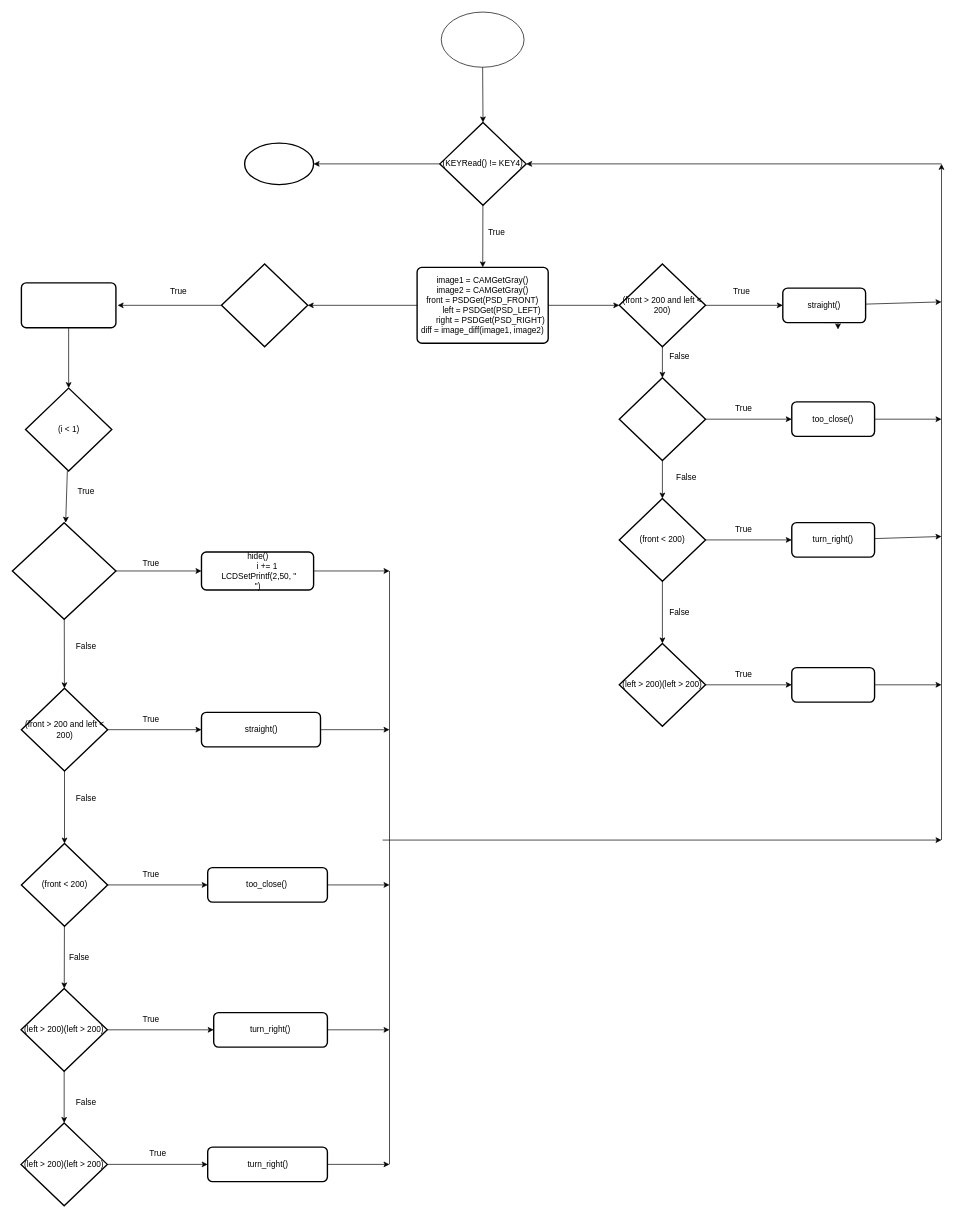
Image size: 959x1219. Some labels were removed from this diagram. The centre of each missing label's shape, as x and y in pixels:
(avg_diff > 1): (264,305)
(front < SAFE and left < SAFE and right < SAFE): (63,571)
(left <= CLOSE and front < SAFE): (662,419)
LCDSetPrintf(2,50, "ALARM!!!") flee() i = 0: (68,305)
START: (482,39)
STOP: (279,163)
turn_left(): (833,684)
